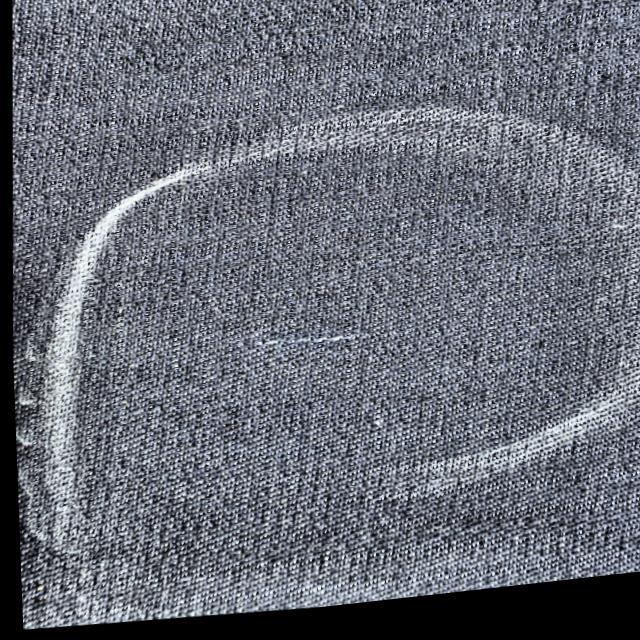Hole: (233, 316, 421, 369)
